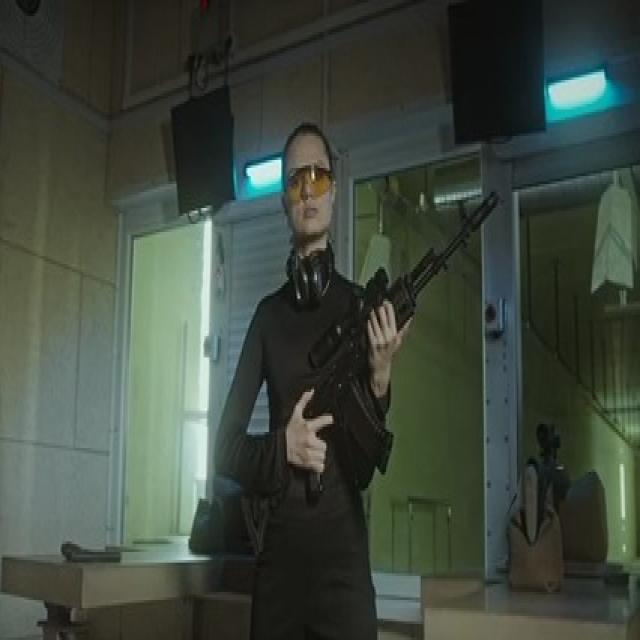Gun_Holder: (245, 204, 503, 503)
Person: (216, 114, 416, 640)
